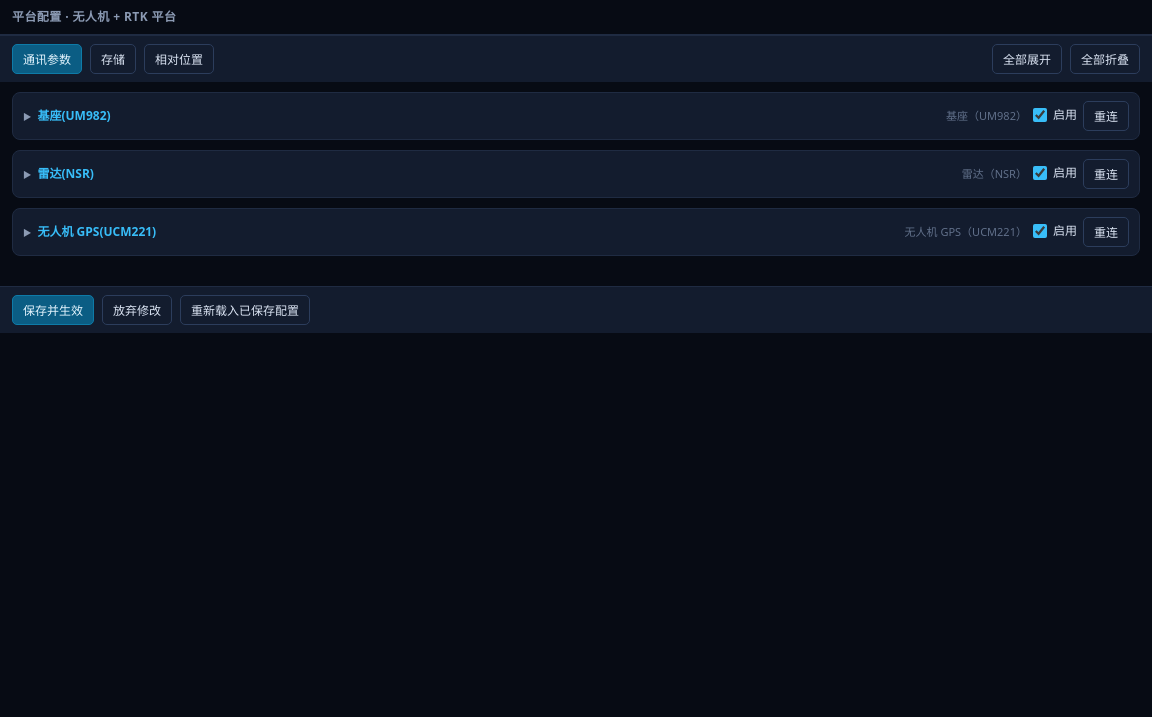
Test: ConfigPanel › 切到「存储」页签后能看到存储配置
The image size is (1152, 717).
Click the button "全部展开". click: (1027, 59)
box: [992,44,1062,74]
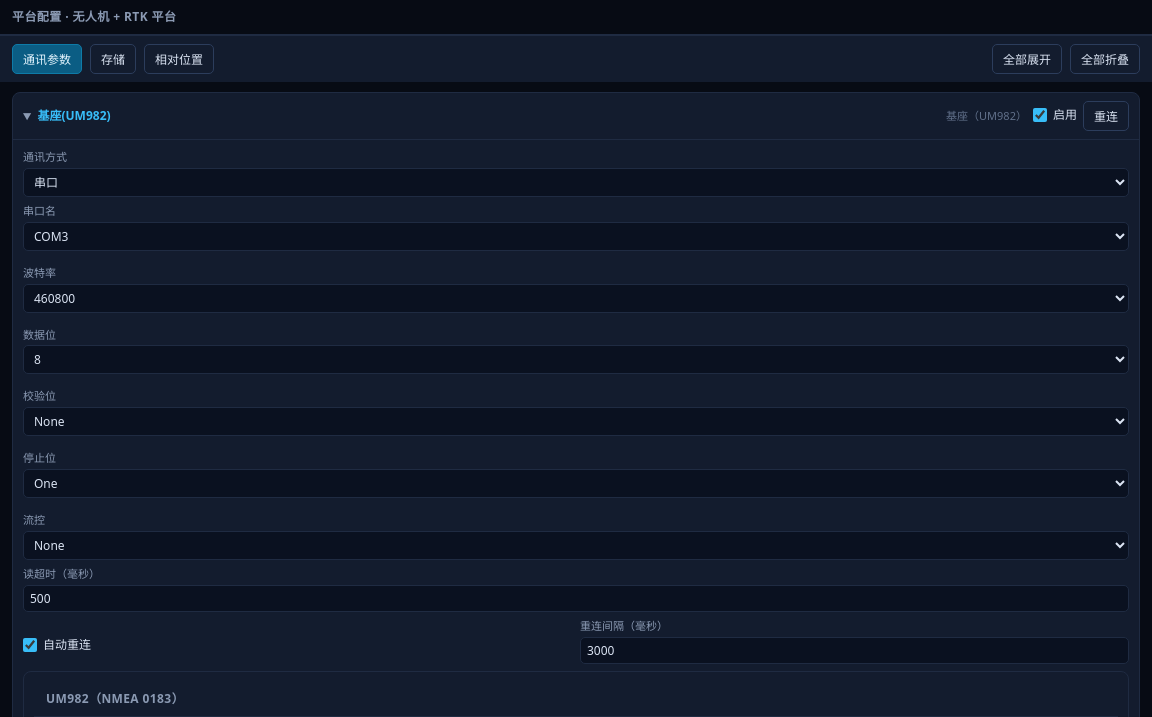
Click the button "存储". click: (113, 59)
box: [90,44,136,74]
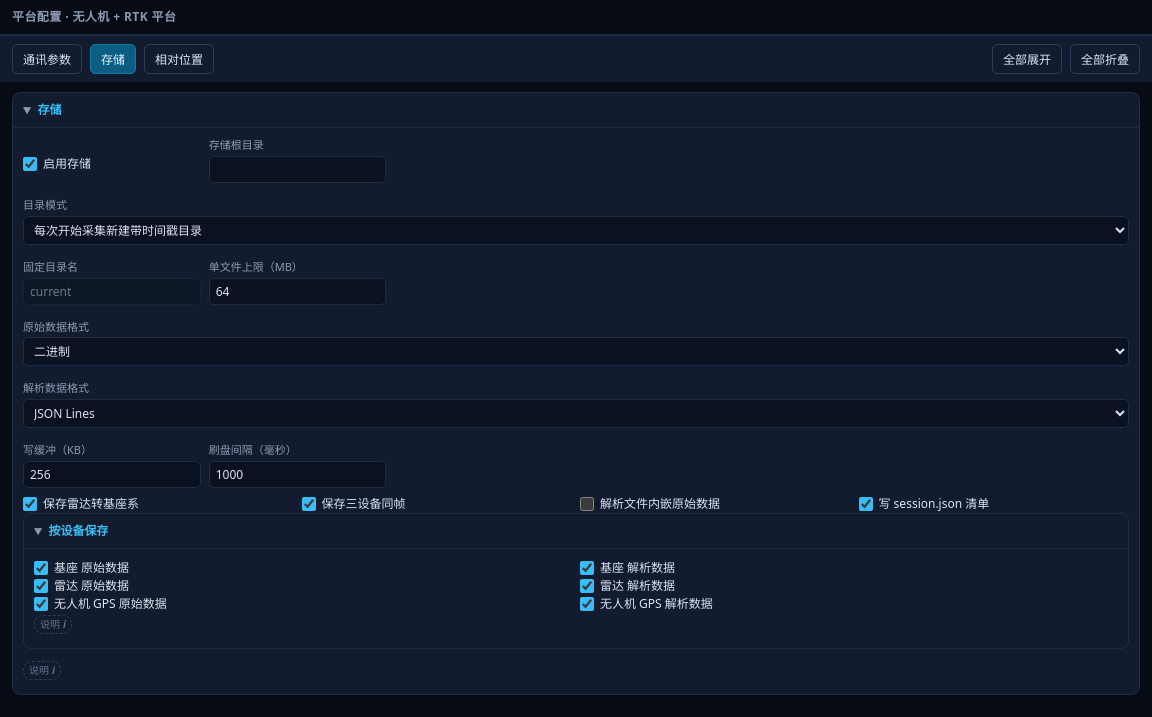
Expected: the text "UM982（NMEA 0183）" is gone
